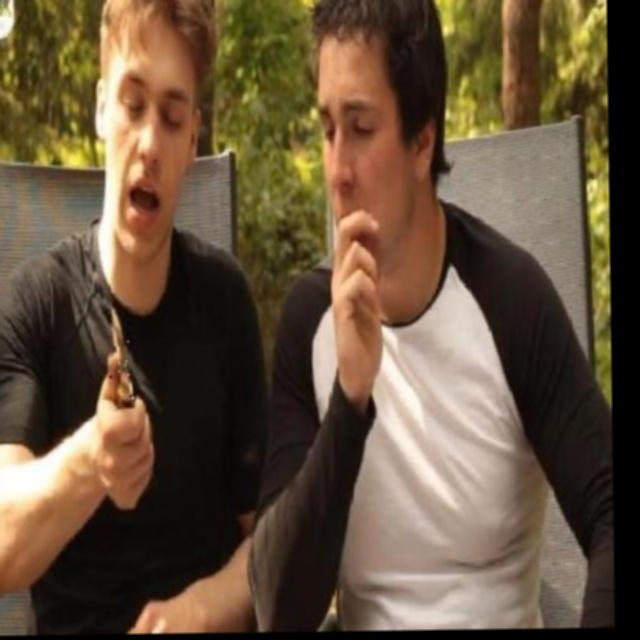Sharp-Object: (108, 308, 136, 409)
